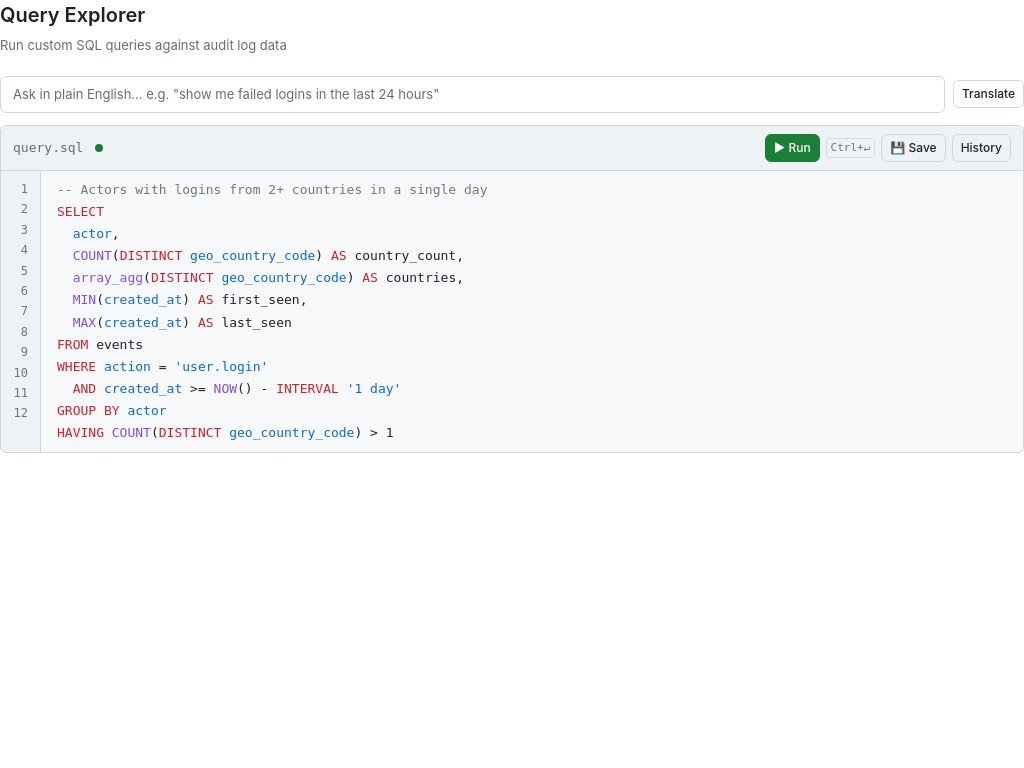
Test case: QueryPage › displays results table after successful query run
Click the button "▶ Run". click: (792, 148)
box: 765,134 -> 820,162
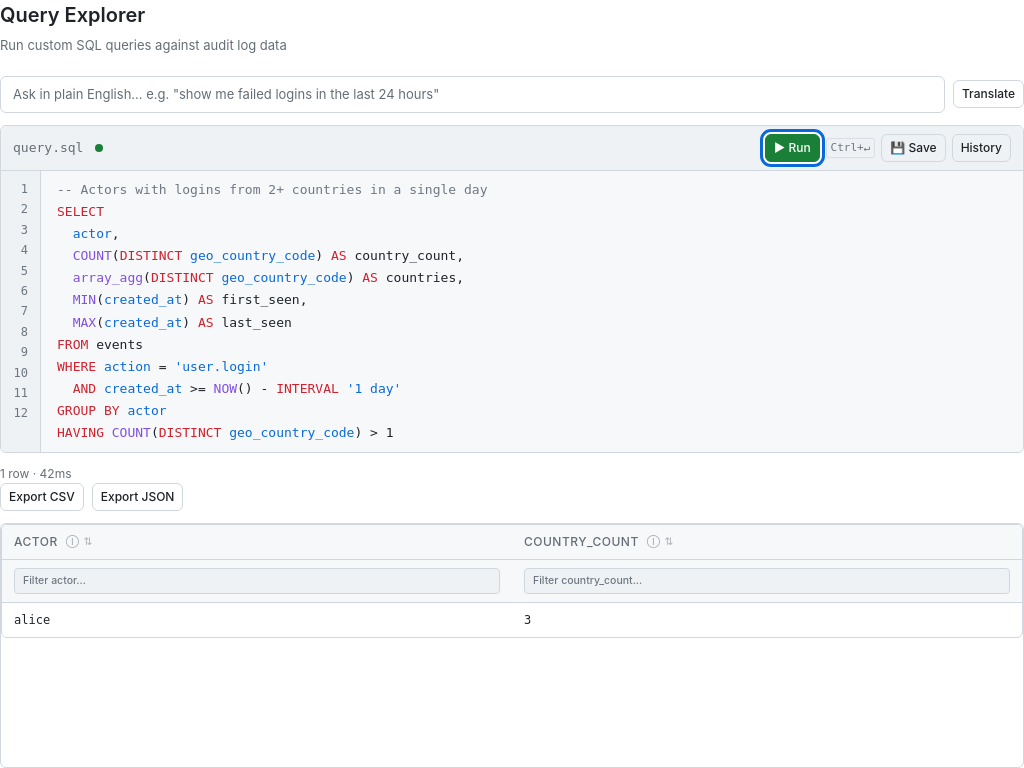
Expected: the button "1 row" is shown, 0,466 -> 29,481
Expected: the button "42ms" is shown, 40,466 -> 72,481
Expected: the text "alice" is shown, 2,602 -> 512,637
